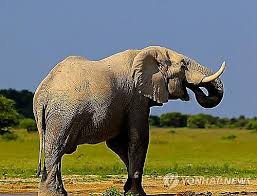Elephant: (23, 41, 227, 194)
